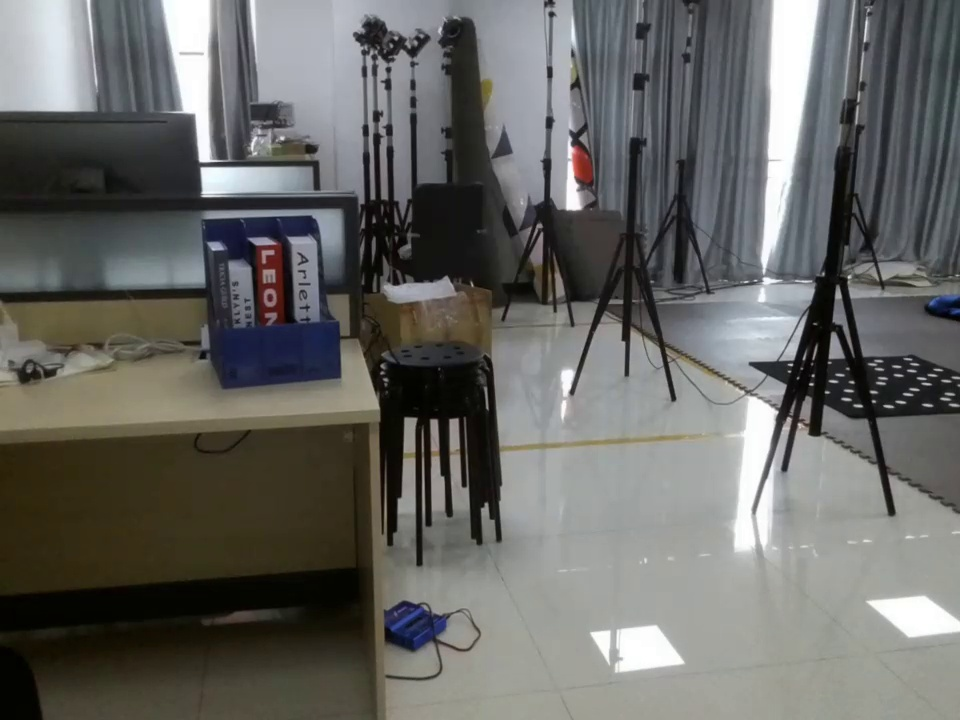files: (196, 211, 343, 392)
